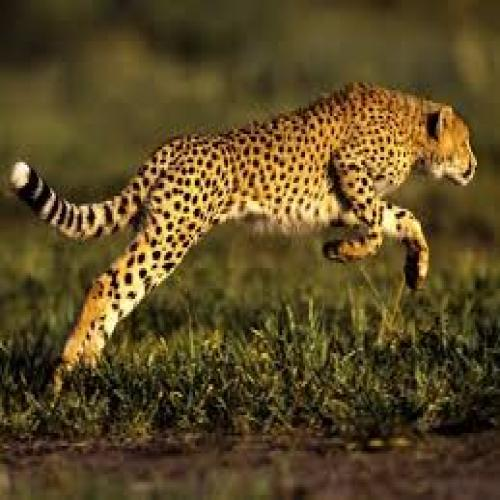cheetah-endangered: (14, 88, 476, 376)
